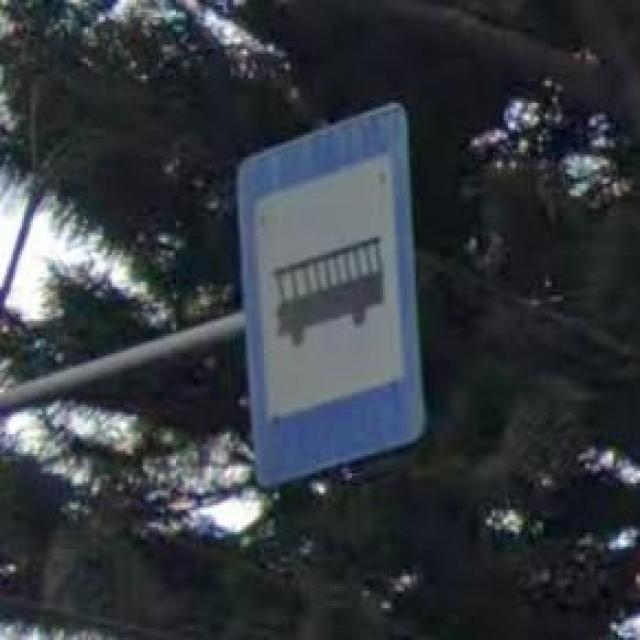traffic sign: (238, 101, 425, 486)
